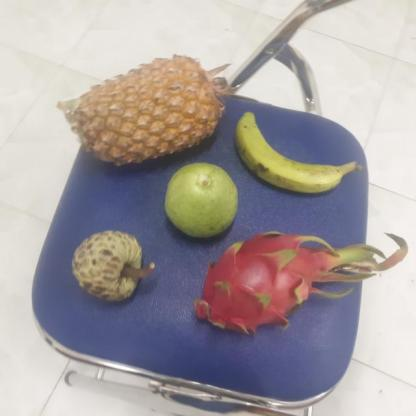annona: (67, 231, 147, 301)
banana: (228, 112, 346, 198)
guava: (161, 162, 239, 239)
pineapple: (70, 57, 218, 169)
pitaya: (186, 231, 328, 333)
